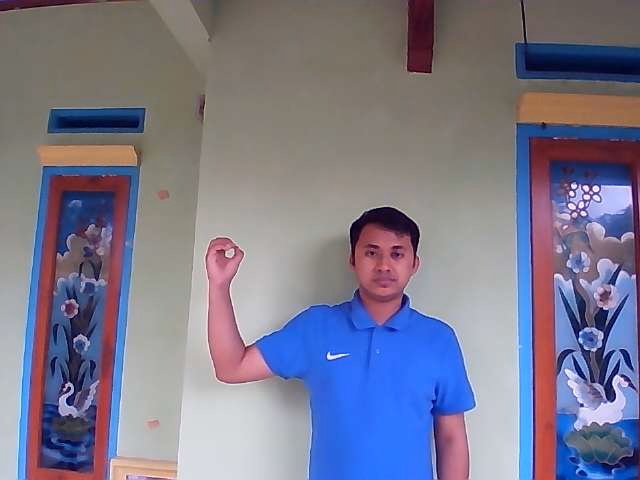O: (203, 236, 245, 282)
